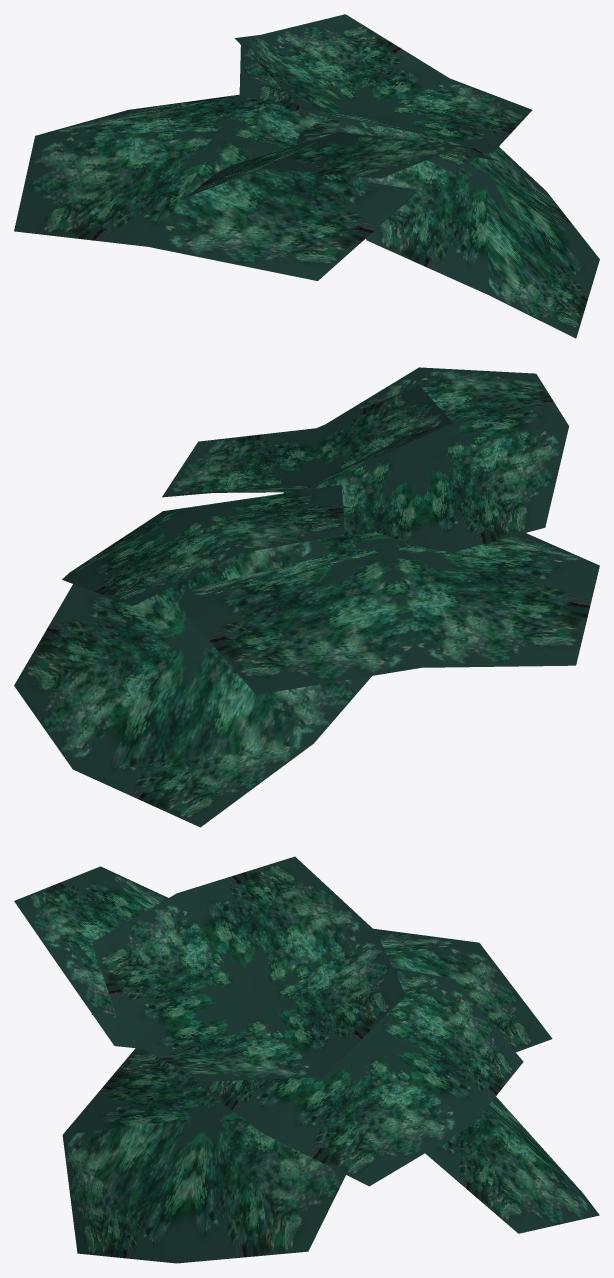
File: swamp_tree_canopy.fbx
3 renders of one model, top to bottom at view 1: azimuth 30°, elevation 25°; view 2: azimuth 150°, elevation 25°; view 3: azimuth 270°, elevation 25°, orthographic.
Visible parts, largest first — view 1: BranchesIndividual24, BranchesIndividual25, BranchesIndividual27, BranchesIndividual28, BranchesIndividual29, BranchesIndividual26; view 2: BranchesIndividual26, BranchesIndividual24, BranchesIndividual28, BranchesIndividual29, BranchesIndividual27; view 3: BranchesIndividual27, BranchesIndividual25, BranchesIndividual29, BranchesIndividual26, BranchesIndividual28, BranchesIndividual24.
Part boxes in pixels (left/top/right/bottom): BranchesIndividual24: left=14, top=94, right=415, bottom=280; BranchesIndividual25: left=339, top=120, right=599, bottom=338; BranchesIndividual27: left=234, top=14, right=532, bottom=153; BranchesIndividual28: left=187, top=132, right=499, bottom=196; BranchesIndividual29: left=239, top=45, right=484, bottom=172; BranchesIndividual26: left=297, top=118, right=339, bottom=144; BranchesIndividual26: left=14, top=540, right=371, bottom=827; BranchesIndividual24: left=178, top=532, right=599, bottom=694; BranchesIndividual28: left=284, top=367, right=568, bottom=552; BranchesIndividual29: left=62, top=485, right=344, bottom=605; BranchesIndividual27: left=162, top=385, right=452, bottom=497; BranchesIndividual27: left=92, top=856, right=405, bottom=1081; BranchesIndividual25: left=62, top=1048, right=345, bottom=1263; BranchesIndividual29: left=196, top=967, right=523, bottom=1186; BranchesIndividual26: left=425, top=1096, right=599, bottom=1233; BranchesIndividual28: left=14, top=866, right=168, bottom=1048; BranchesIndividual24: left=91, top=928, right=552, bottom=1052.
Bounding box in the file's own units: 12668 × 7108 × 12366.
Materials: 1 (1 with a texture image).
